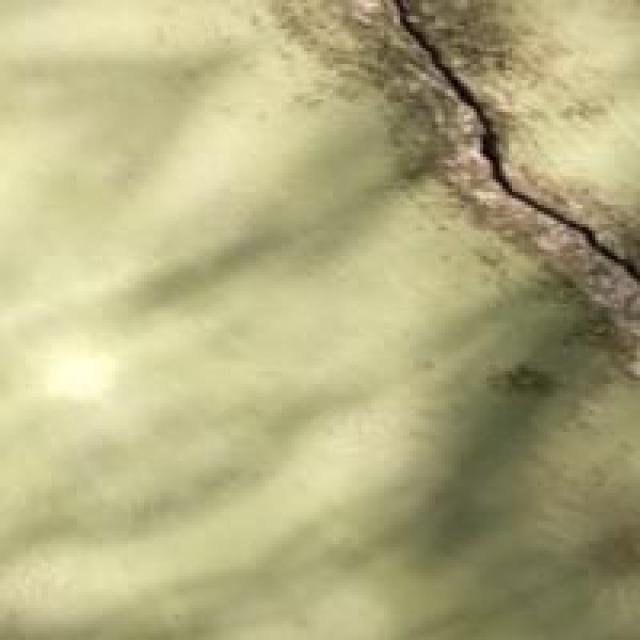crack: (349, 3, 637, 362)
